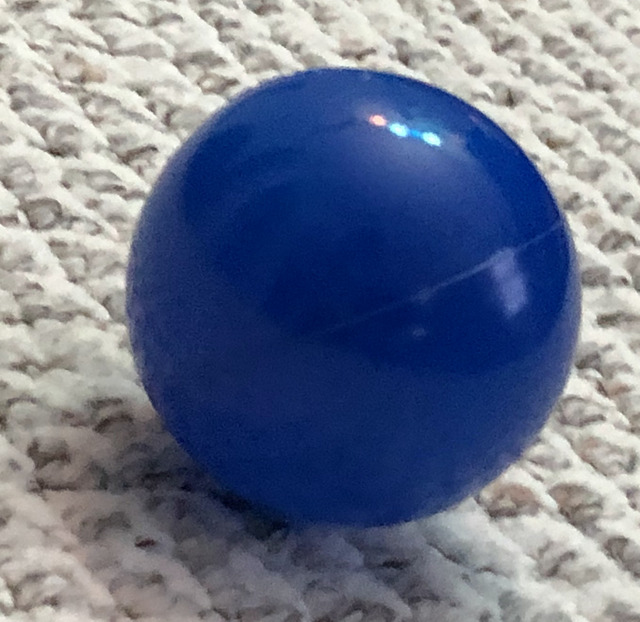Ball: (126, 67, 582, 526)
